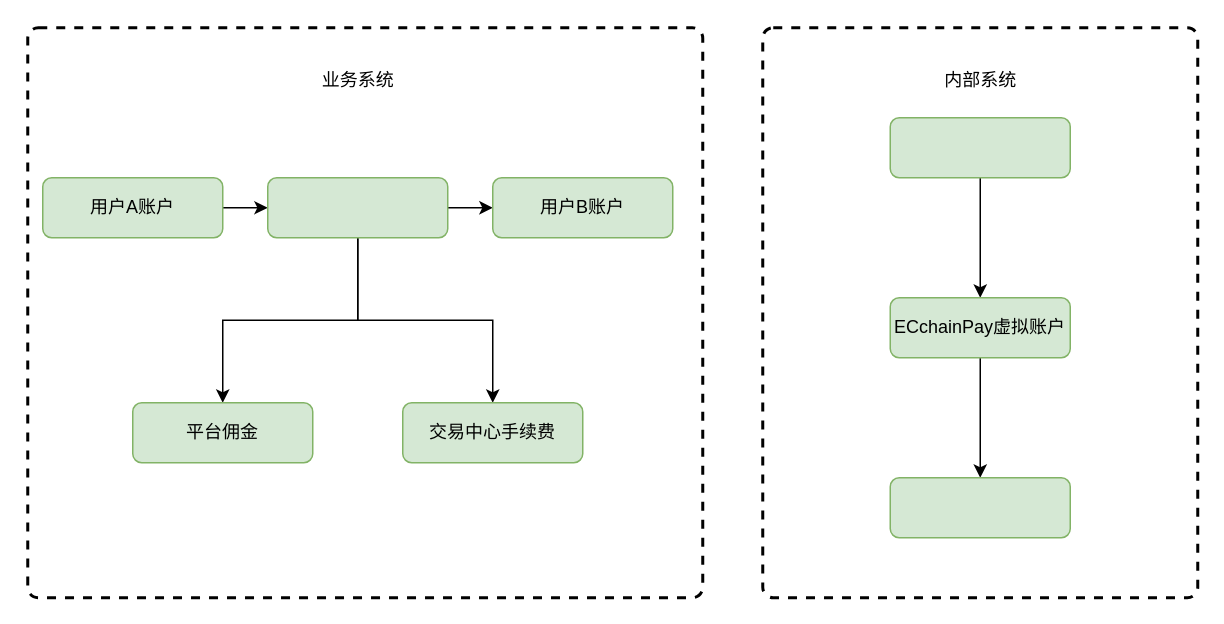
This 1224x624 diagram has some shape labels left out. The box of each missing label's shape, as (x1, y1, x2, y2) in pixels:
代收代付中间户: (266, 176, 448, 238)
会员A现金账户: (889, 116, 1070, 178)
会员B现金账户: (889, 476, 1070, 538)
